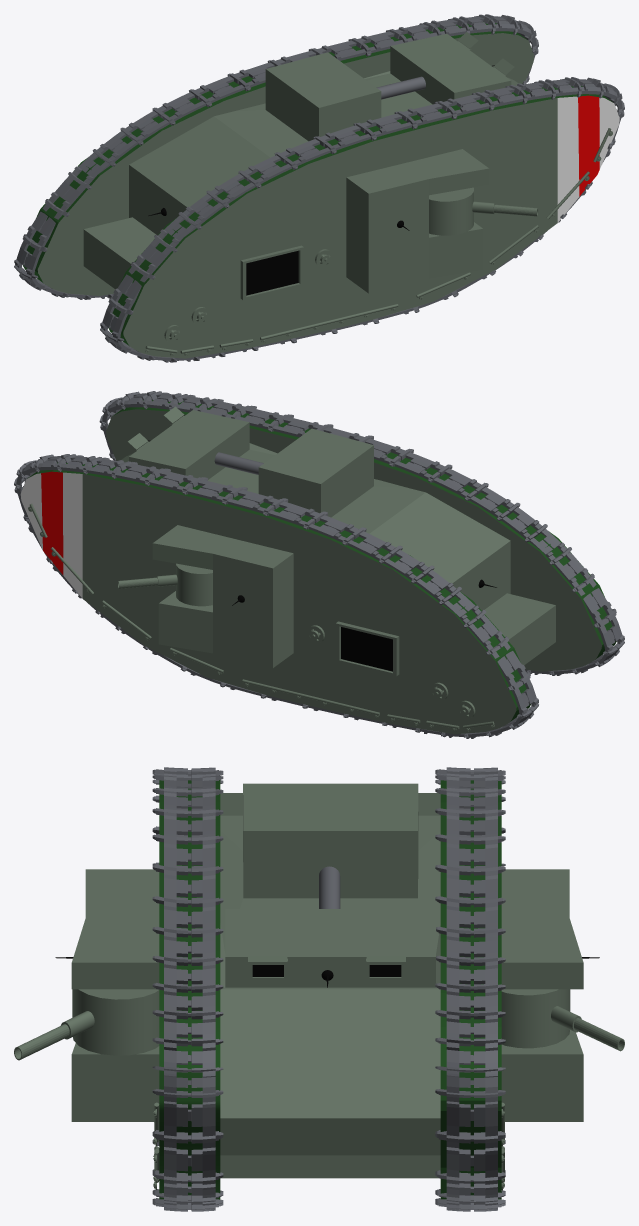
File: mark1.fbx
3 renders of one model, top to bottom at view 1: azimuth 30°, elevation 25°; view 2: azimuth 150°, elevation 25°; view 3: azimuth 270°, elevation 25°, orthographic. The views are drawn at different scales.
Visible parts, largest first — view 1: nurbsToPoly2, pCube116, pCube118, pCube115, nurbsToPoly3, pCube114, pCube126, pCylinder74, pCylinder124, pCylinder109; view 2: nurbsToPoly3, pCube116, pCube129, pCube114, nurbsToPoly2, pCube115, pCube123, pCylinder75, pCylinder124, pCylinder76; view 3: pCube116, pCube115, pCube114, pCube118, pCube129, nurbsToPoly2, nurbsToPoly3, pCylinder74, pCylinder75, pCylinder124, pCube130.
Boxes of the visible parts, x1,y1,x2,y2 form: nurbsToPoly2: (108, 86, 619, 358); pCube116: (83, 34, 518, 289); pCube118: (346, 149, 489, 293); pCube115: (100, 77, 624, 362); nurbsToPoly3: (23, 23, 534, 295); pCube114: (14, 14, 538, 299); pCube126: (240, 245, 303, 300); pCylinder74: (429, 187, 538, 235); pCylinder124: (376, 76, 425, 99); pCylinder109: (260, 304, 398, 339); nurbsToPoly3: (20, 462, 530, 734); pCube116: (121, 410, 555, 665); pCube129: (152, 525, 293, 667); pCube114: (14, 454, 538, 738); nurbsToPoly2: (106, 400, 616, 671); pCube115: (99, 391, 624, 675); pCube123: (335, 621, 399, 676); pCylinder75: (118, 563, 212, 606); pCylinder124: (214, 452, 263, 474); pCylinder76: (242, 679, 379, 715); pCube116: (220, 783, 440, 1178); pCube115: (152, 767, 223, 1211); pCube114: (435, 767, 505, 1211); pCube118: (71, 869, 159, 1121); pCube129: (501, 869, 583, 1121); nurbsToPoly2: (159, 780, 220, 1199); nurbsToPoly3: (440, 780, 501, 1199); pCylinder74: (14, 989, 159, 1060); pCylinder75: (501, 989, 624, 1051); pCylinder124: (319, 866, 340, 908); pCube130: (248, 958, 287, 979).
Bounding box in the file's own units: 341 × 131 × 213.
